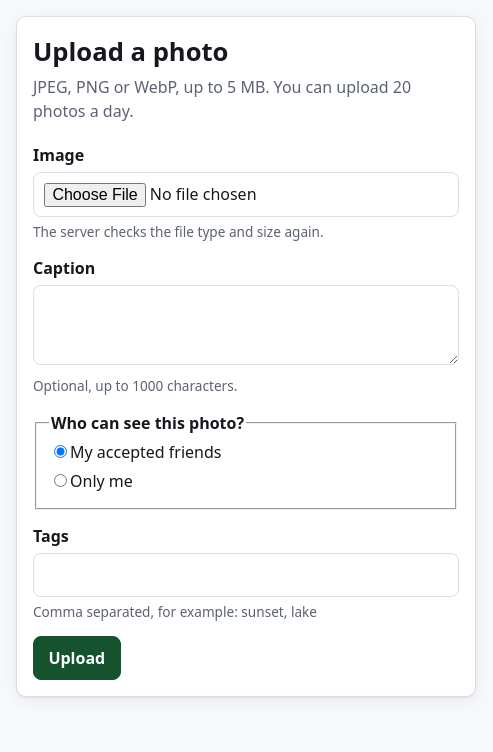
Test: UploadPage › requires a file before submitting
Click the button "Upload" at [77, 658], box [33,636,121,680]
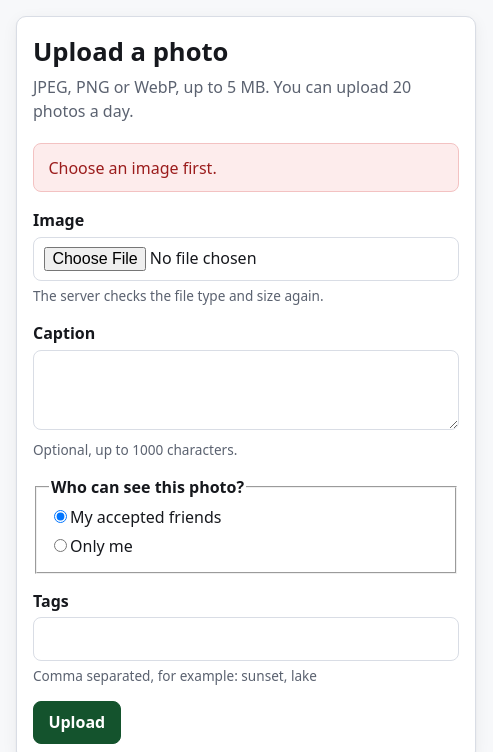
Expected: the text "Choose an image first." is shown, [48,156,217,180]
